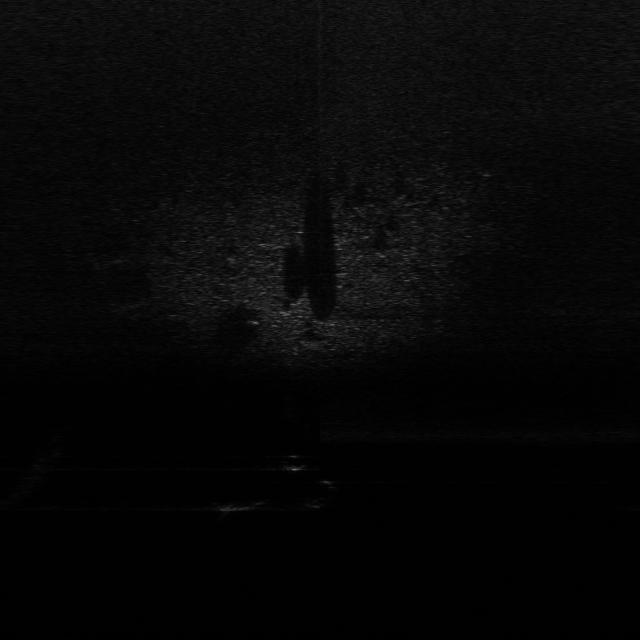ball: (276, 451, 310, 474)
square cage: (216, 488, 274, 516)
tyre: (303, 476, 342, 511)
